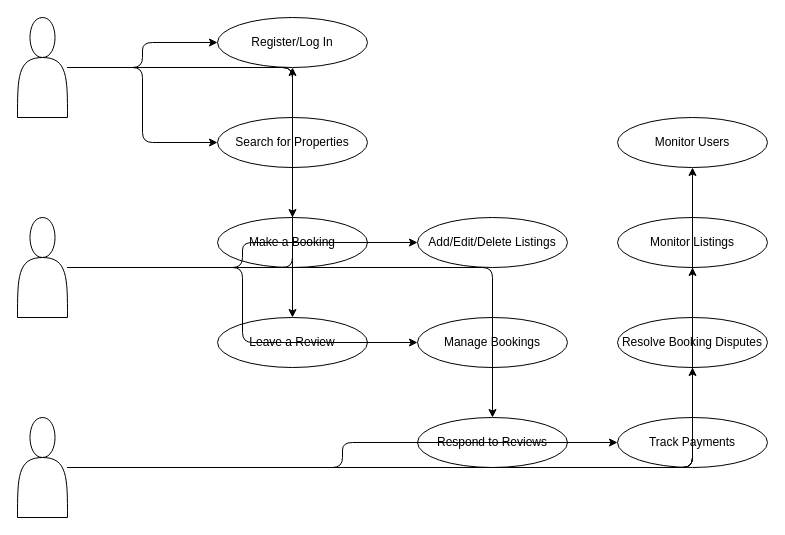
Image size: 785x535. Some labels were removed from this diagram. Here are the shapes that lost their labels. From the top down, the box of each, then its label:
(16, 16, 68, 118): Guest
(16, 216, 68, 318): Host
(16, 416, 68, 518): Admin
